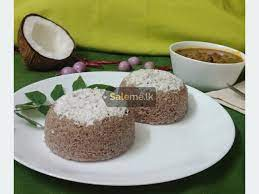pittu: (55, 68, 192, 161)
